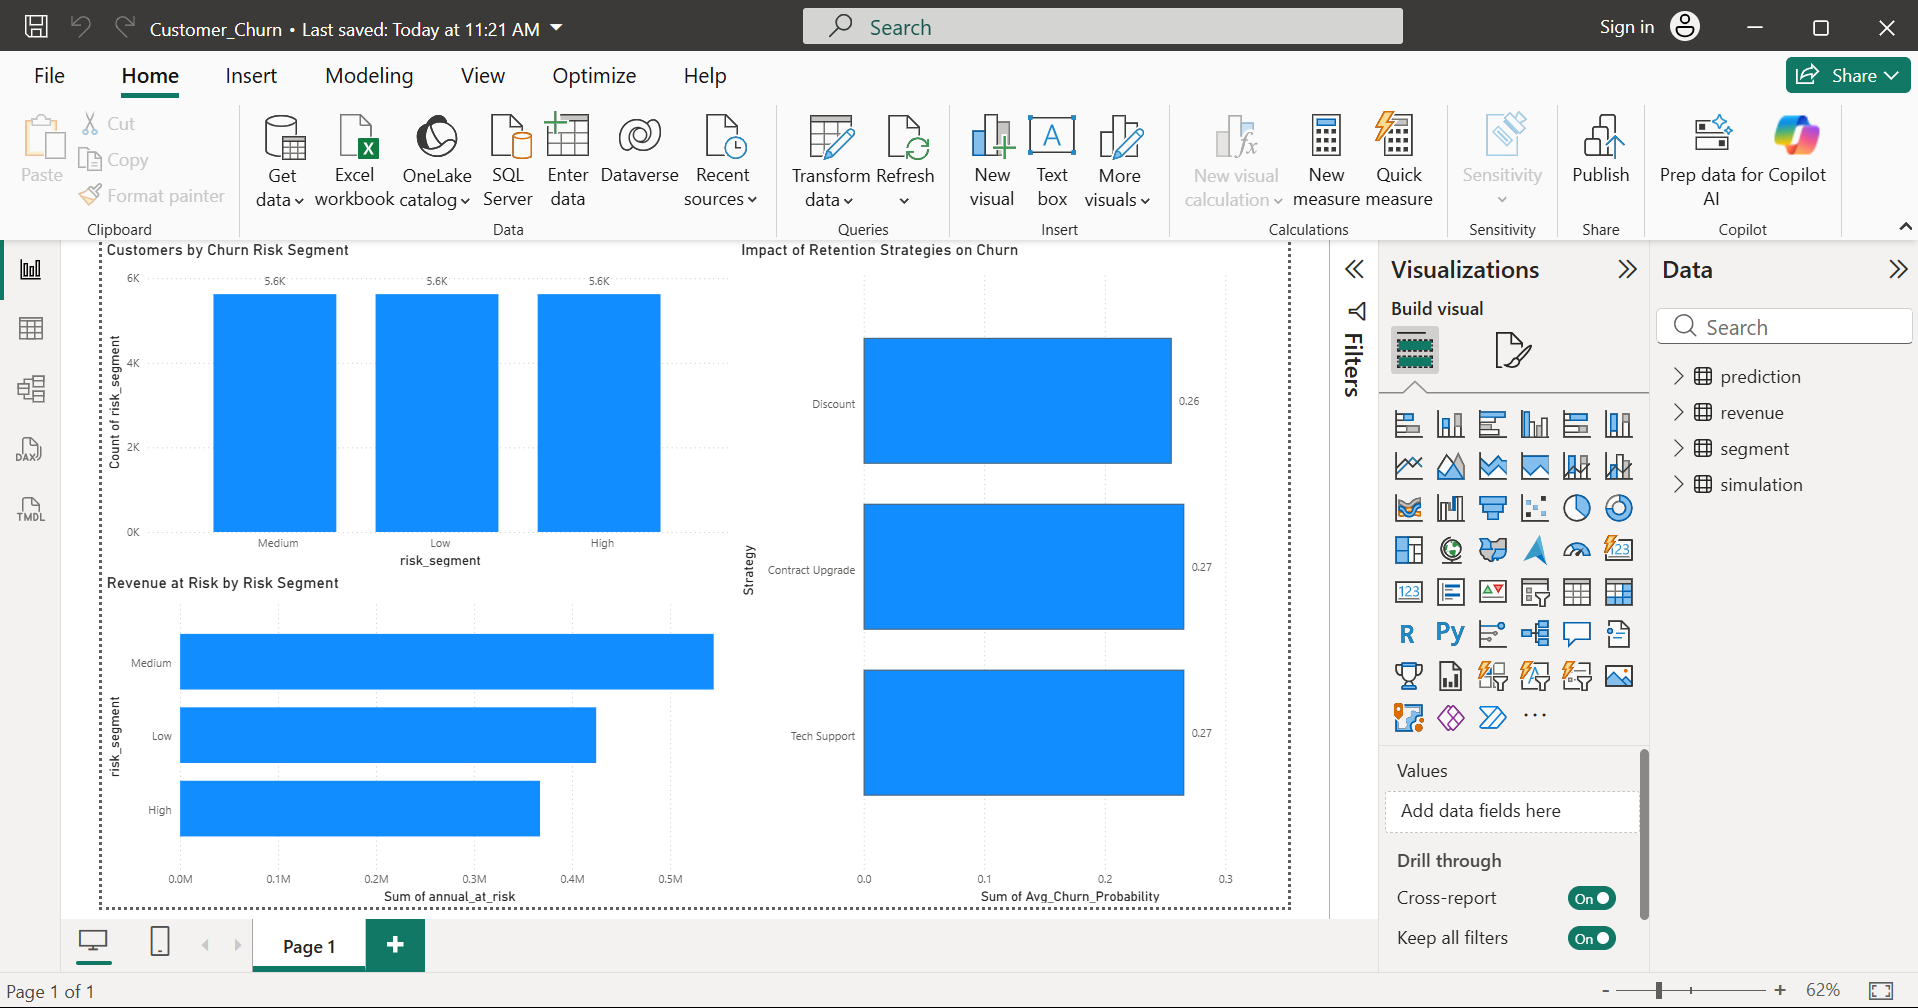

This screenshot's page, from the dashboard's own definition file:
{"tool":"powerbi","page":{"name":"Page 1","canvas":[1280,720],"ordinal":0},"visuals":[{"type":"clusteredColumnChart","title":"Customers by Churn Risk Segment","fields":{"Category":["revenue.risk_segment"],"Y":["CountNonNull(prediction.risk_segment)"]},"box":[0,0,684.9,357.8],"z":0},{"type":"clusteredBarChart","title":"Revenue at Risk by Risk Segment","fields":{"Category":["revenue.risk_segment"],"Y":["Sum(revenue.annual_at_risk)"]},"box":[0,359.5,684.9,361.1],"z":1000},{"type":"clusteredBarChart","title":"Impact of Retention Strategies on Churn","fields":{"Category":["simulation.Strategy"],"Y":["Sum(simulation.Avg_Churn_Probability)"]},"box":[684.9,0,595.9,720.6],"z":2000}]}

Visuals, with their boxes on the page's 1280x720 design canvas (x1, y1, x2, y2). These are canvas units, not pixel positions in the 1918x1008 screenshot, which may show the page scaled, cropped or inside an application window:
"Customers by Churn Risk Segment" clusteredColumnChart: select_region(0, 0, 685, 358)
"Revenue at Risk by Risk Segment" clusteredBarChart: select_region(0, 360, 685, 721)
"Impact of Retention Strategies on Churn" clusteredBarChart: select_region(685, 0, 1281, 721)
